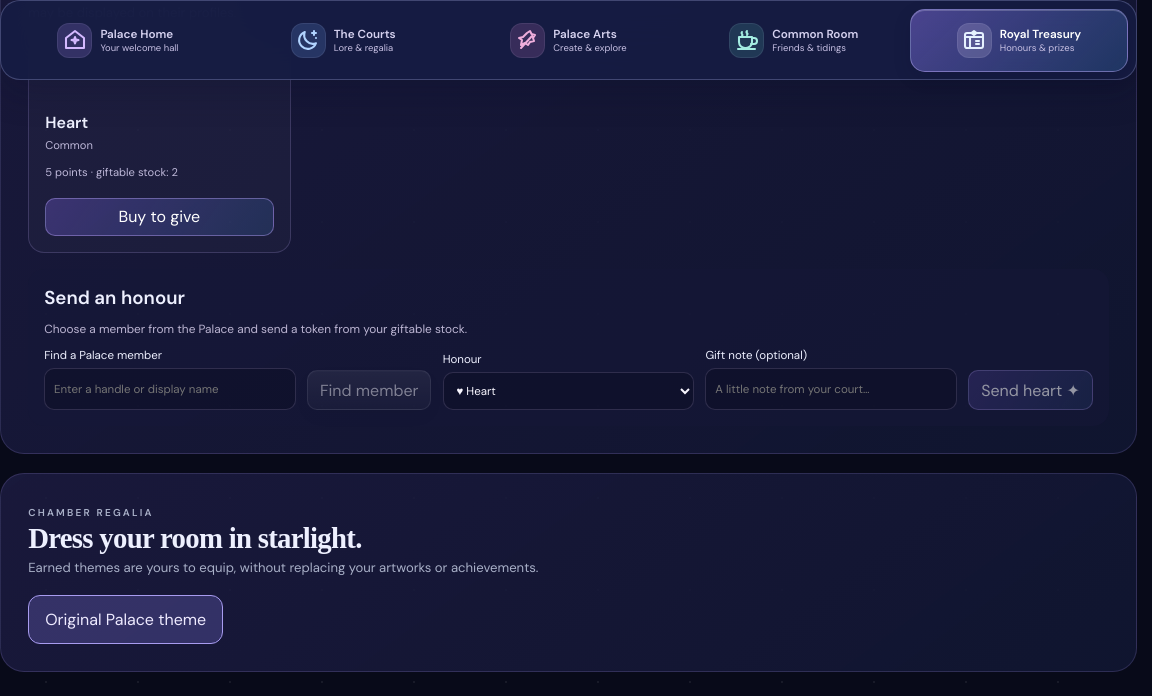
Test: Grand Palace gifts and room navigation › requires picking a member after changing the search text
The image size is (1152, 696).
(page scrolled)
In the field labelled "Find a Palace member": (170, 389) x1=44 y1=368 x2=296 y2=410, type "Star"
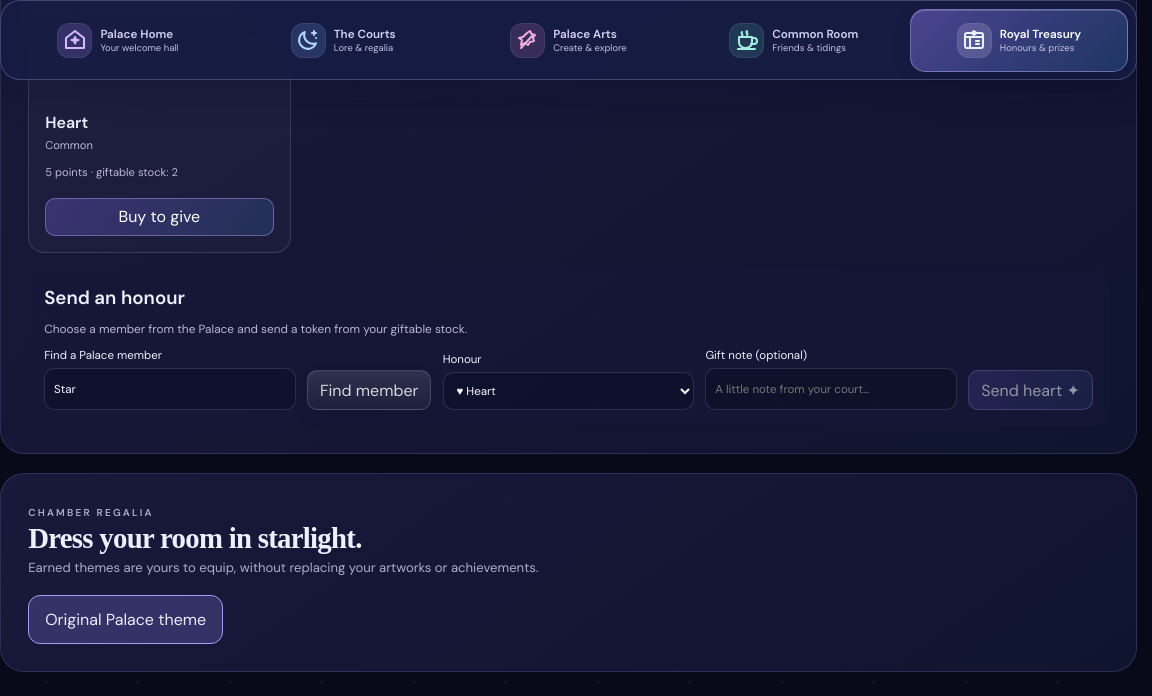
Click the button "Find member": (369, 390) x1=307 y1=370 x2=431 y2=410
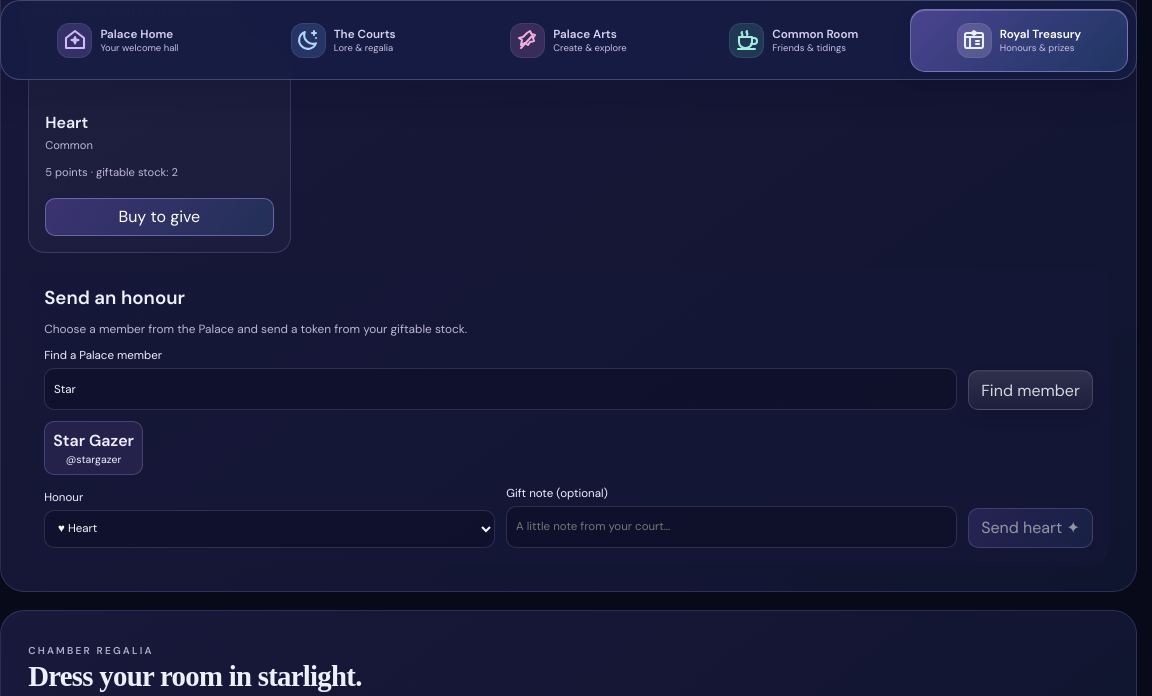
Click the button "Star Gazer @stargazer": (94, 448) x1=44 y1=421 x2=143 y2=475
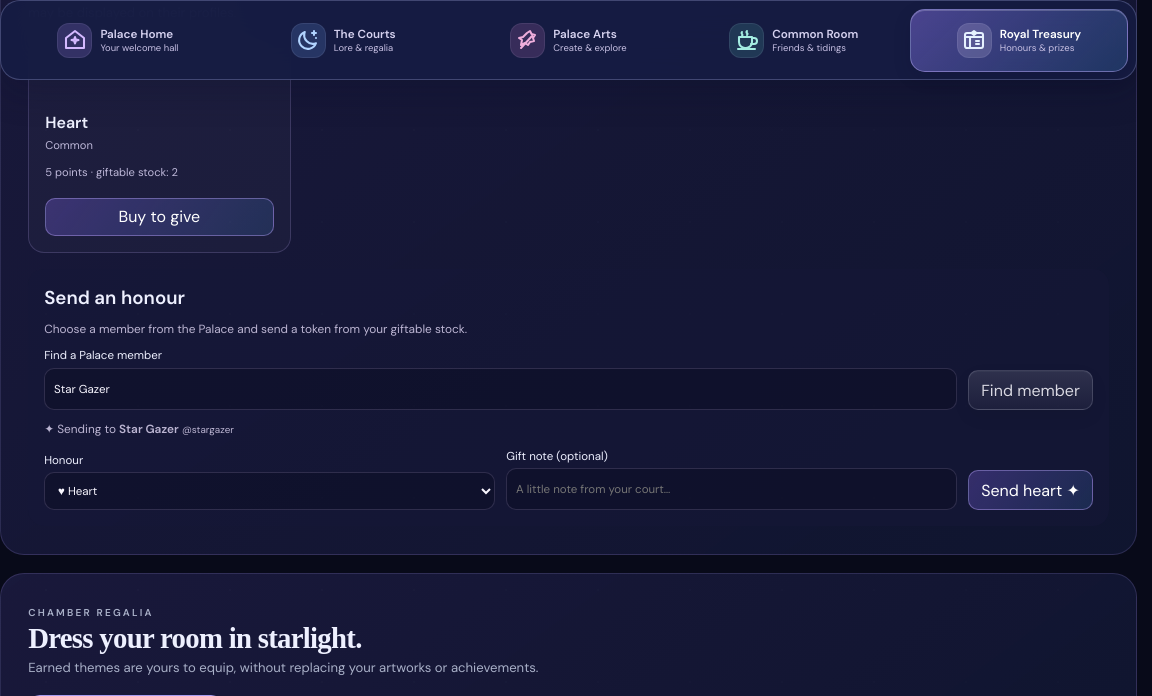
expect the button "Send heart ✦" is enabled: met, box x1=968 y1=470 x2=1093 y2=510
Replace the text in the field labelled "Find a Palace member" with "Another reader": (501, 389) x1=44 y1=368 x2=957 y2=410
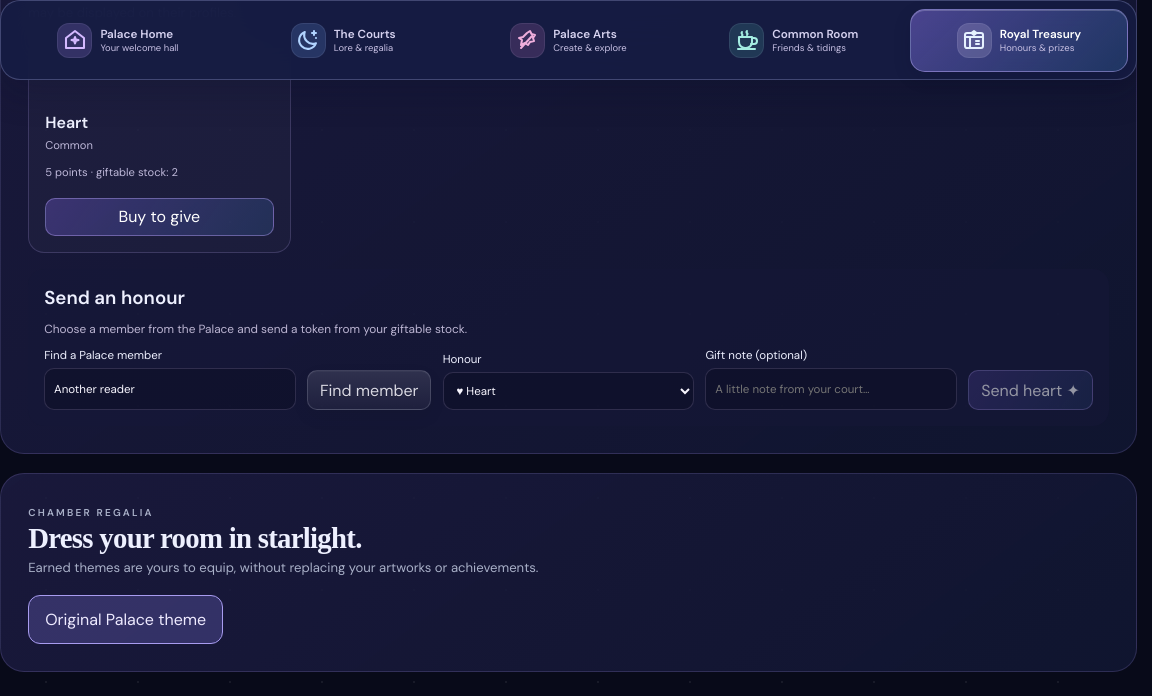
expect the button "Send heart ✦" is disabled: met, box x1=968 y1=370 x2=1093 y2=410
